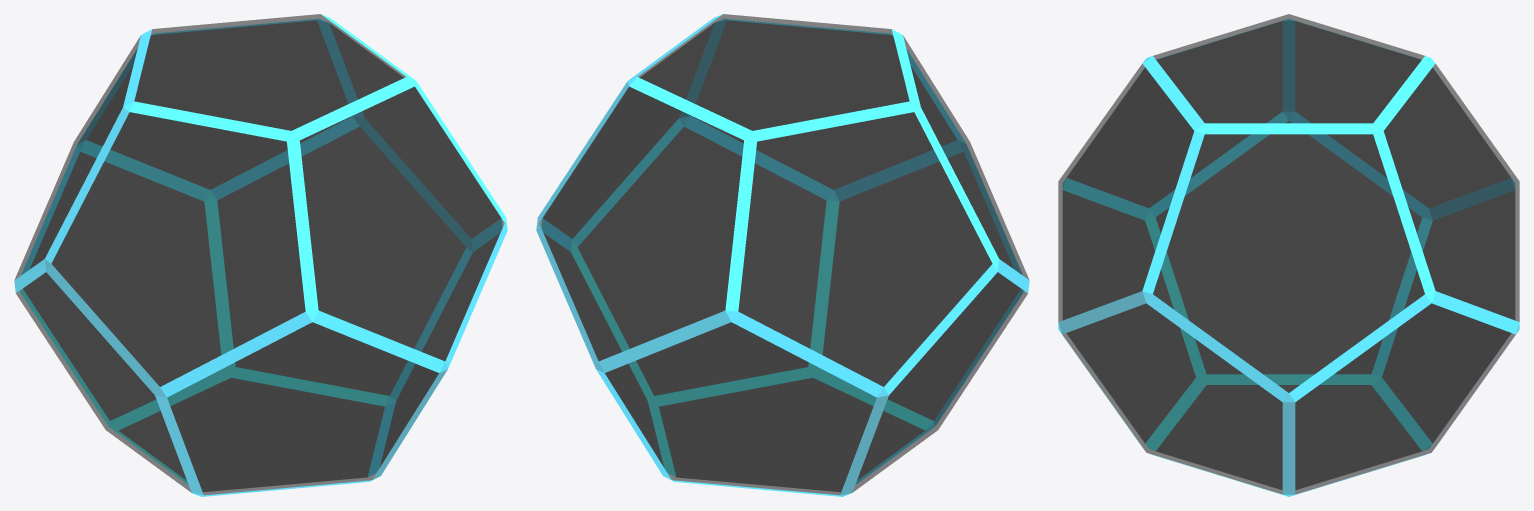
Rendered from Dodecahedron.glb.
The picture shows the model from 3 angles, left to right: view 1: azimuth 30°, elevation 25°; view 2: azimuth 150°, elevation 25°; view 3: azimuth 270°, elevation 25°; orthographic projection. The views are drawn at different scales.
Size of the model in its own units: 0.0127 by 0.0105 by 0.0121.
